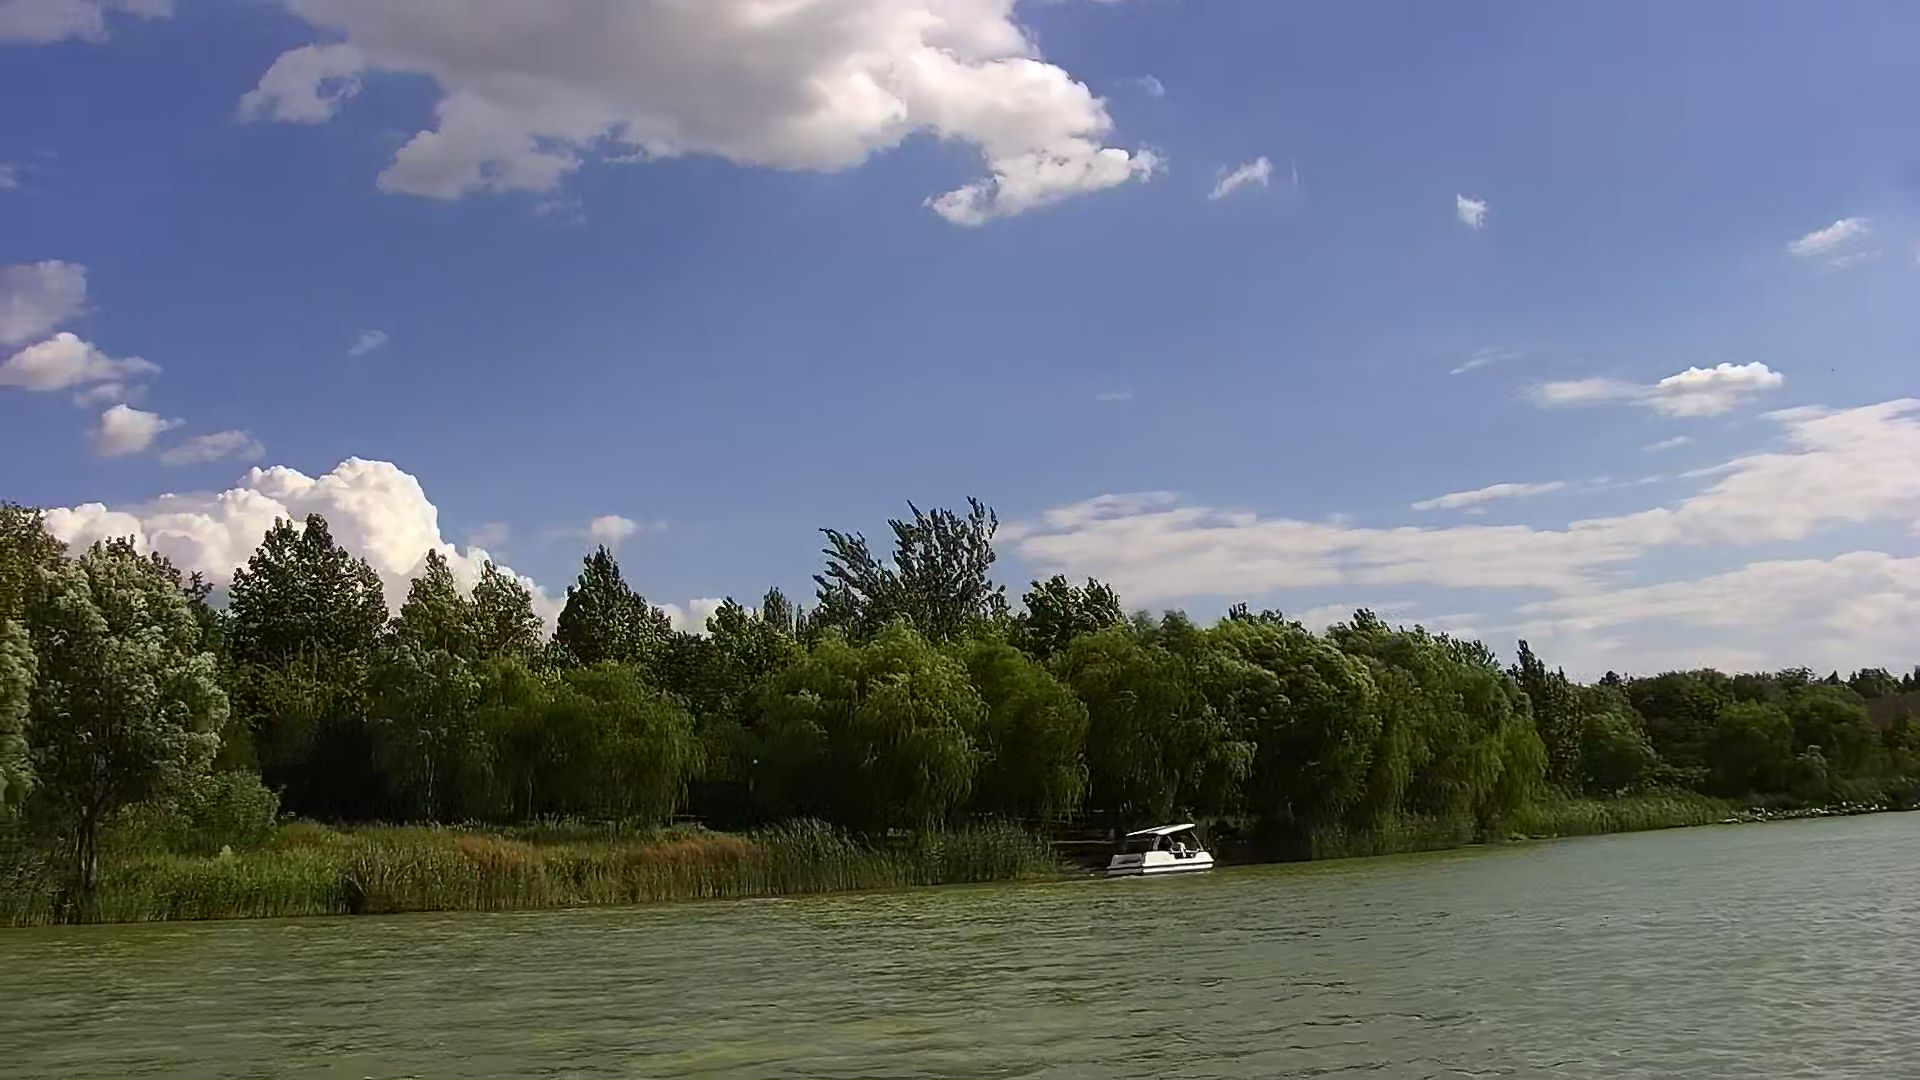boat: (1109, 818, 1216, 873)
